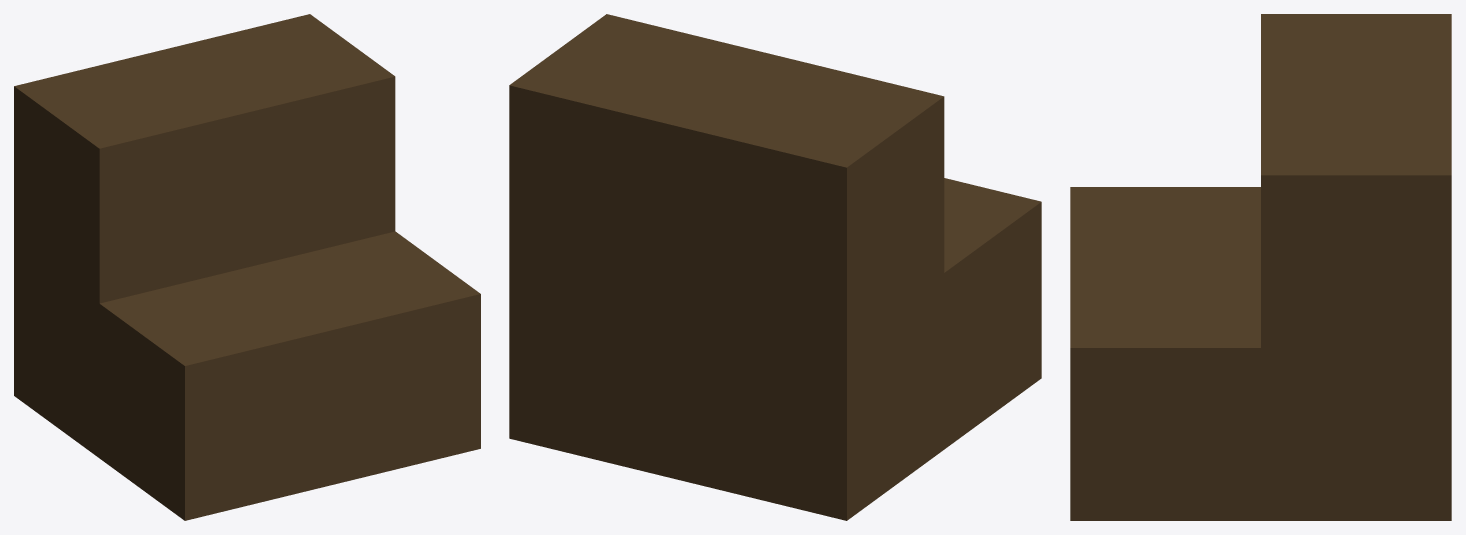
File: Cat2Attack.obj
3 views of the same model, side by side, from view 1: azimuth 30°, elevation 25°; view 2: azimuth 150°, elevation 25°; view 3: azimuth 270°, elevation 25° (orthographic). The views are drawn at different scales.
Size of the model in its own units: 2 by 2 by 2.
1 material, 1 textured.
